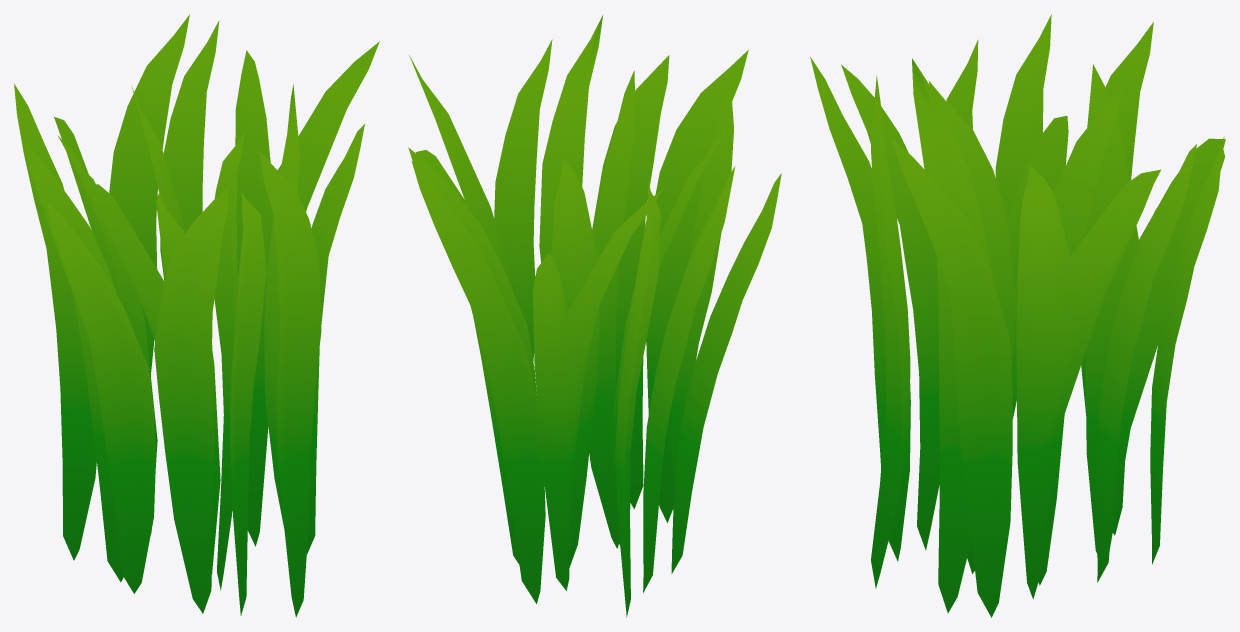
Rendered from nature_grass_wide_tall.glb.
3 renders of one model, left to right at view 1: azimuth 30°, elevation 25°; view 2: azimuth 150°, elevation 25°; view 3: azimuth 270°, elevation 25°, orthographic. The views are drawn at different scales.
Visible parts, largest first — view 1: nature_grass_wide_tall; view 2: nature_grass_wide_tall; view 3: nature_grass_wide_tall.
Part boxes in pixels (x1=…): nature_grass_wide_tall: x1=14, y1=14, x2=379, y2=617; nature_grass_wide_tall: x1=408, y1=14, x2=781, y2=617; nature_grass_wide_tall: x1=810, y1=14, x2=1225, y2=617.
Bounding box in the file's own units: 115 × 161 × 111.
1 material, 1 textured.
